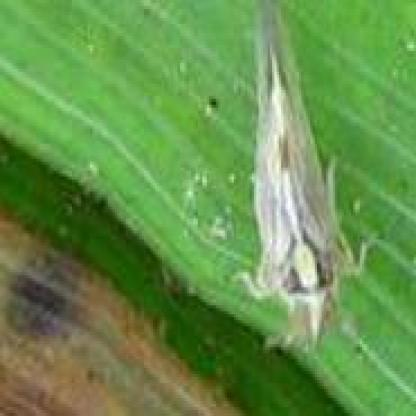brown-planthopper: (232, 0, 357, 346)
